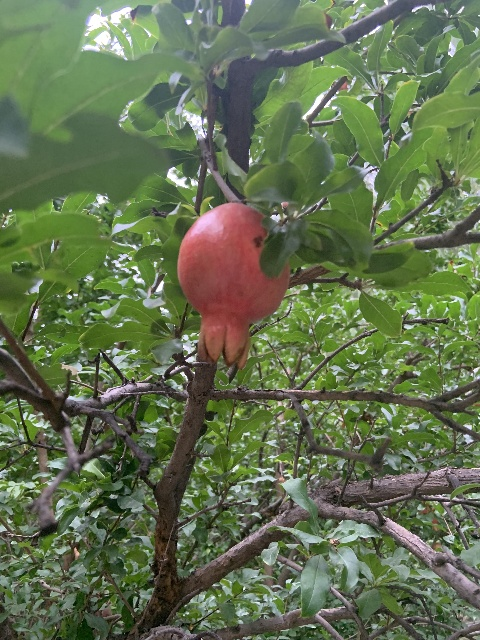ripe: (177, 203, 290, 369)
